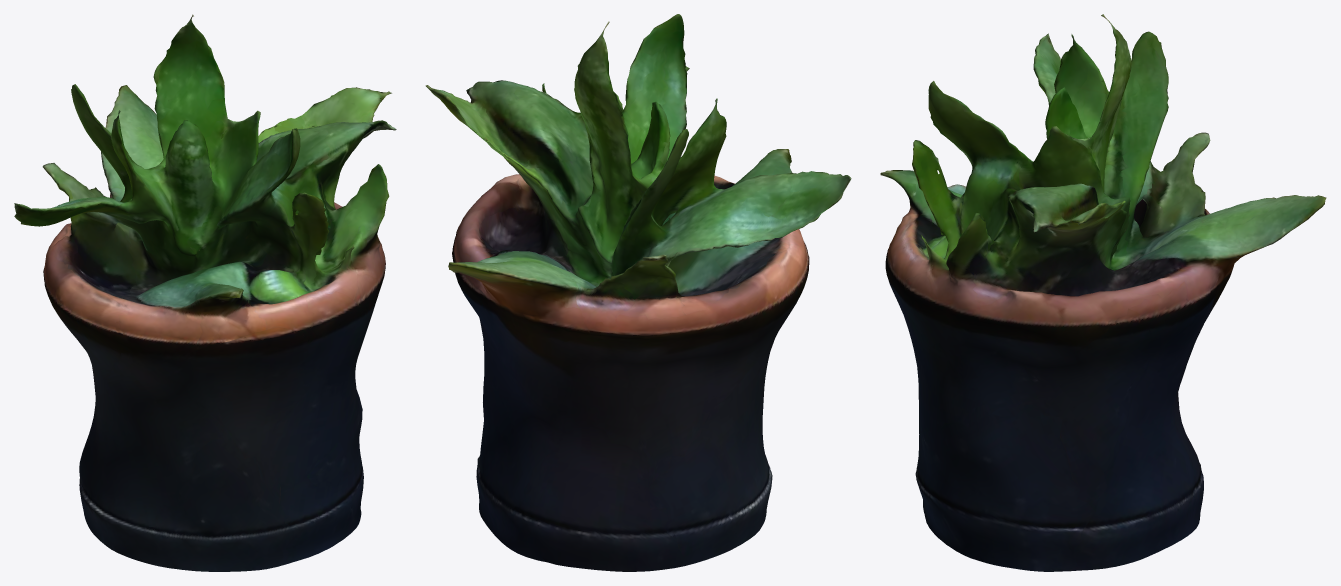
The picture shows the model from 3 angles, left to right: view 1: azimuth 30°, elevation 25°; view 2: azimuth 150°, elevation 25°; view 3: azimuth 270°, elevation 25°; orthographic projection. The views are drawn at different scales.
Visible parts, largest first — view 1: 3DModel; view 2: 3DModel; view 3: 3DModel.
Part boxes in pixels (x1,y1,x2,y2): 3DModel: [14, 14, 396, 571]; 3DModel: [425, 14, 851, 571]; 3DModel: [880, 14, 1326, 571].
Size of the model in its own units: 0.4425 by 0.5238 by 0.4286.
Materials: 1 (1 with a texture image).
